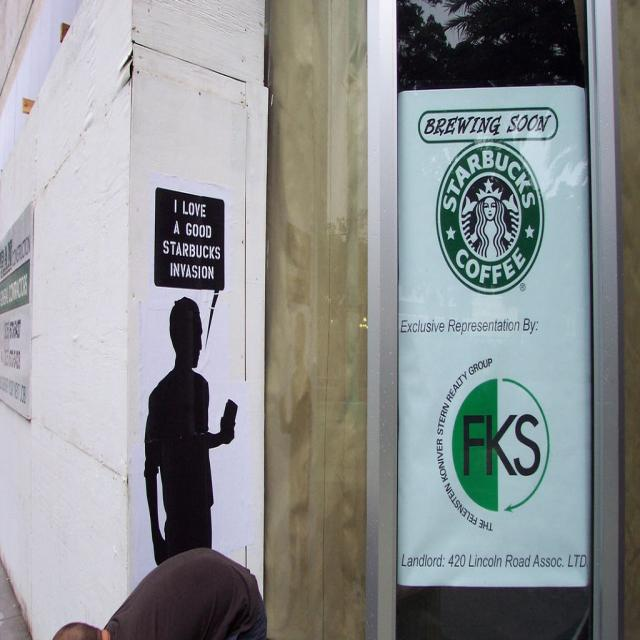starbucks: (437, 143, 545, 296)
